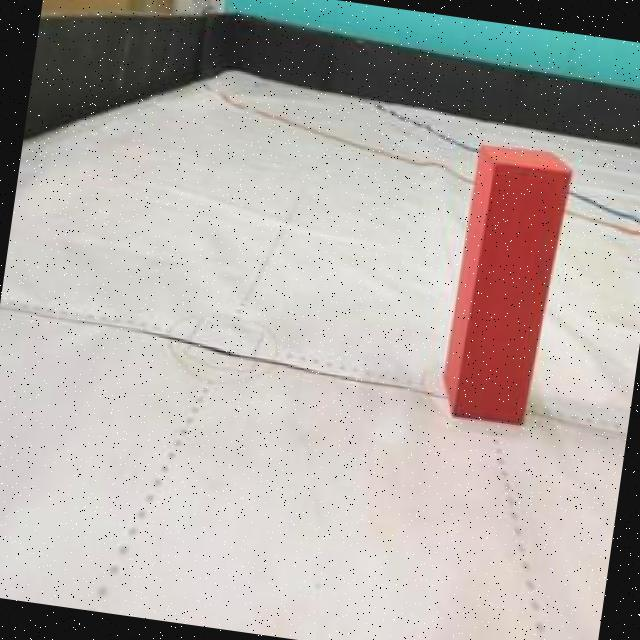redbox: (435, 140, 575, 430)
